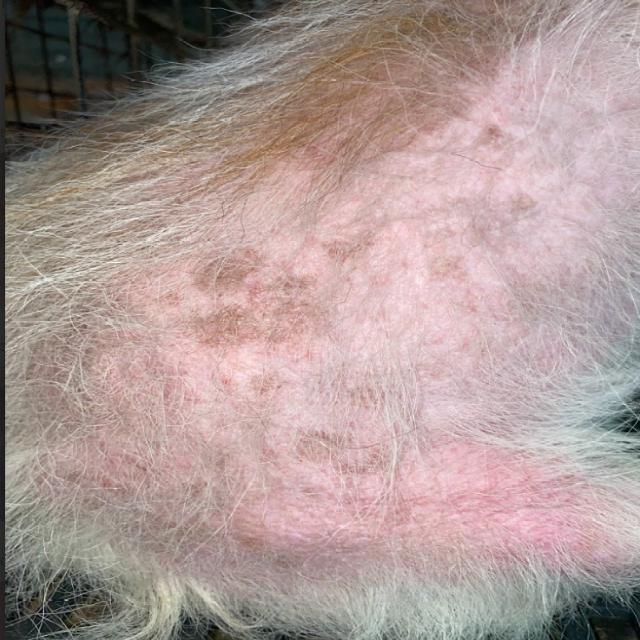demodicosis: (100, 90, 526, 578)
